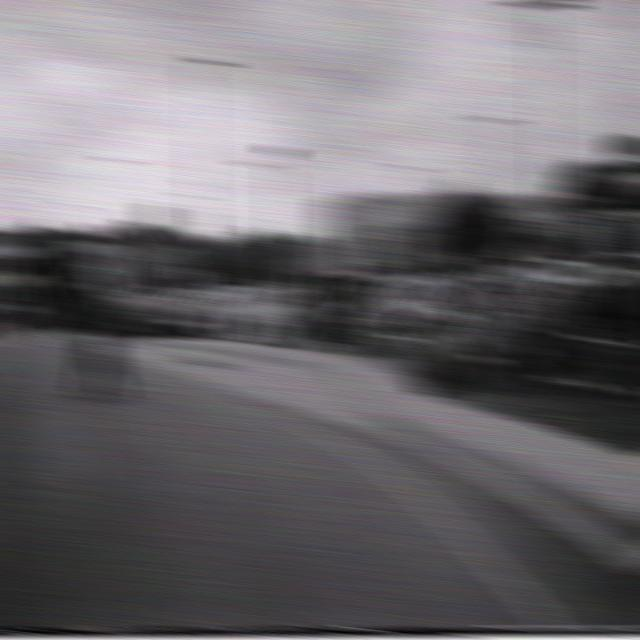stop: (80, 256, 108, 280), (309, 251, 336, 274)
